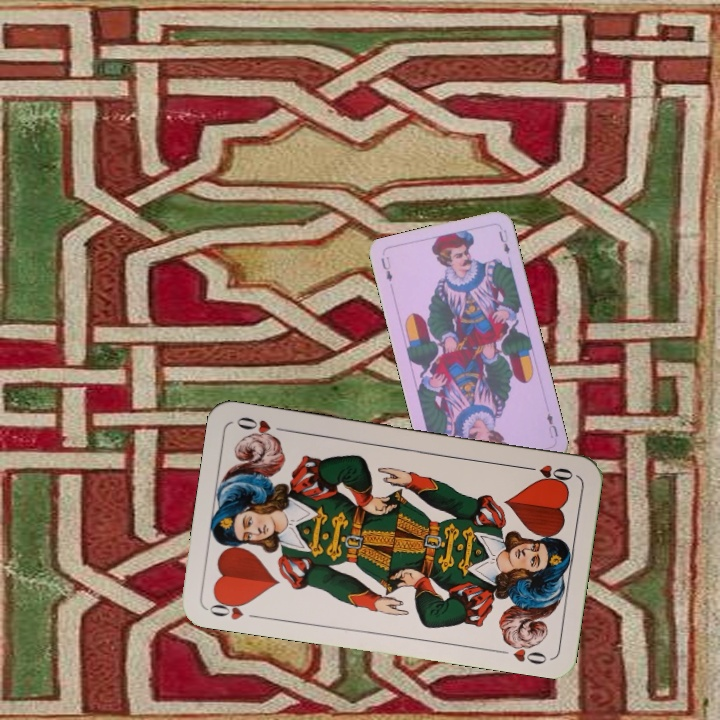EU: (543, 409, 561, 441), (377, 252, 395, 284)
HO: (205, 593, 263, 623), (518, 460, 576, 484)
